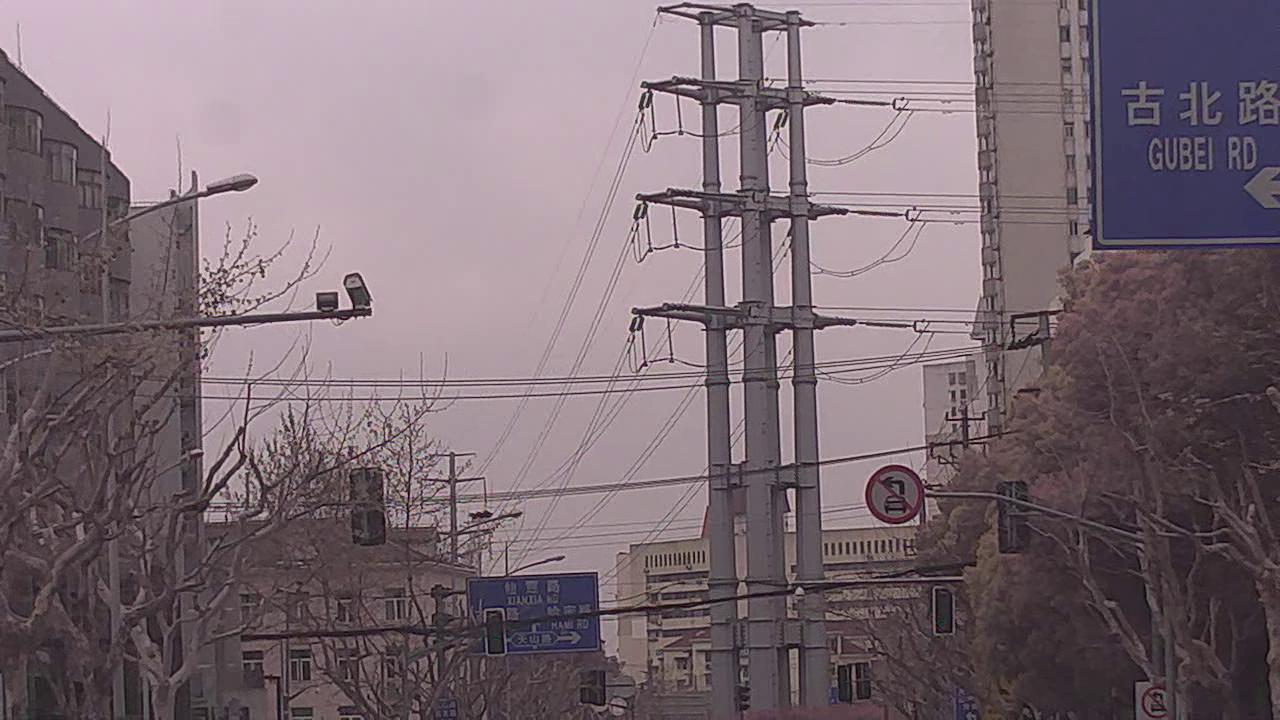traffic_light: (933, 587, 959, 633), (486, 611, 505, 656)
